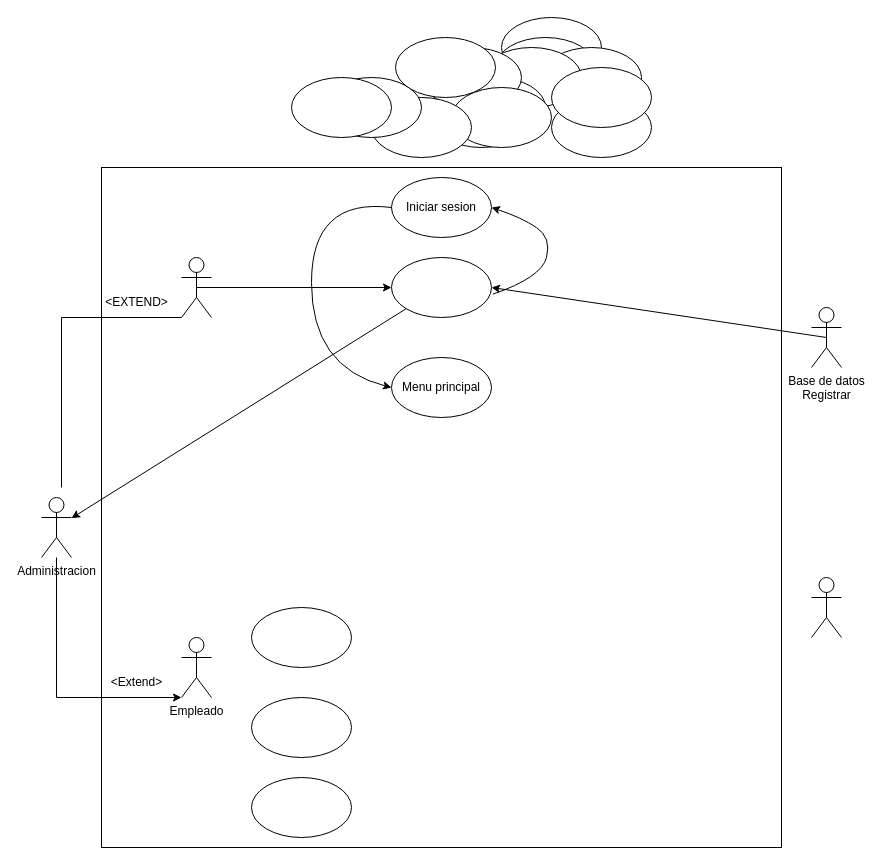
This 882x865 diagram has some shape labels left out. Here are the shapes that lost their labels. From the top down, the centre of each, then its label:
(x=196, y=287): Cliente
(x=441, y=287): Registar
(x=826, y=607): Base de datos Almacenes
